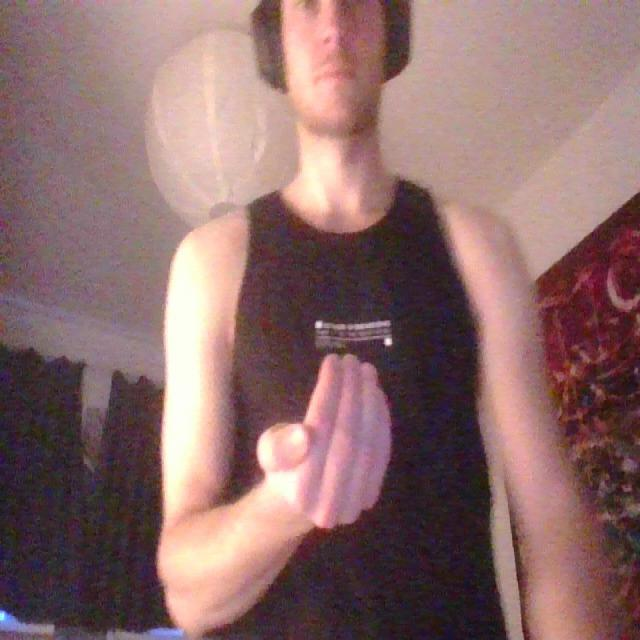forward: (254, 342, 396, 542)
